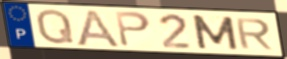2: (156, 12, 194, 50)
A: (74, 8, 123, 49)
M: (189, 14, 241, 51)
P: (113, 10, 153, 49)
Q: (35, 7, 77, 46)
R: (233, 17, 276, 51)
